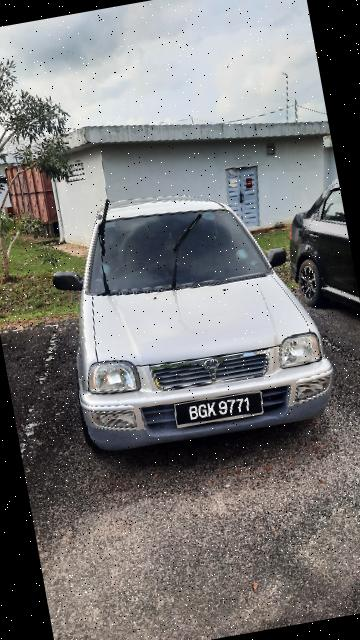License_Plate: (169, 385, 271, 438)
car: (38, 156, 343, 465), (272, 170, 360, 333)
